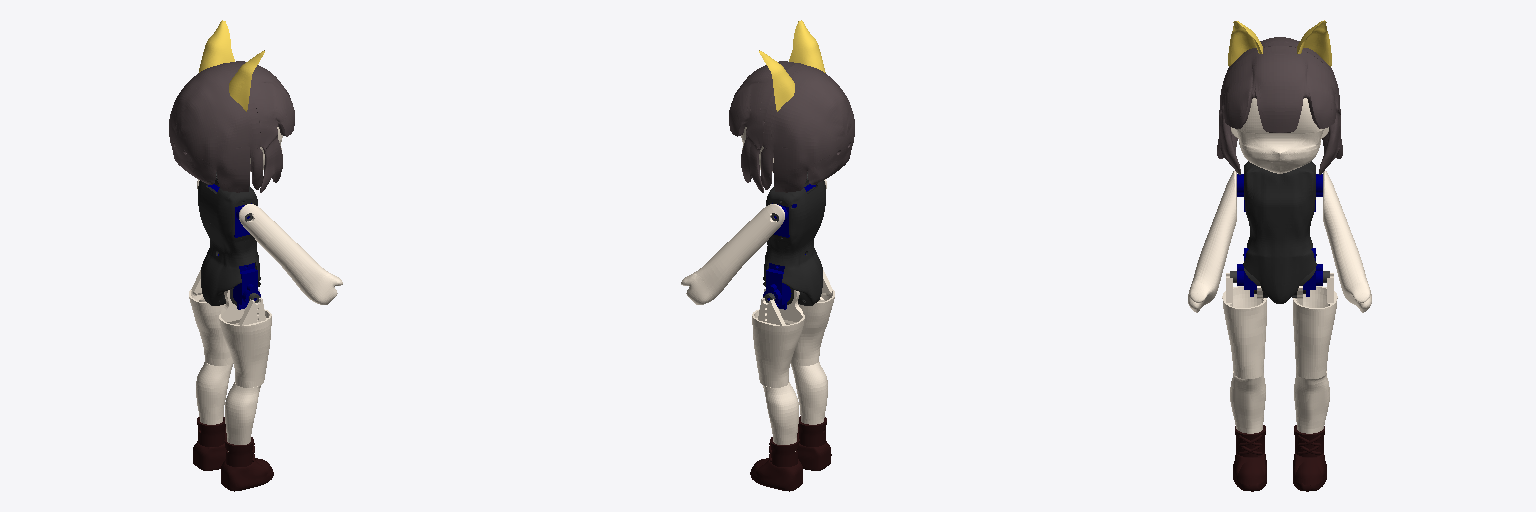
The robot description file, URDF, robot "yobicon":
<?xml version="1.0" ?>
<robot name="yobicon">
  <!-- BODY parts -->
  <link name="base_link"/>
  <link name="BODY_BASE"/>
  <link name="BODY_R">
    <visual>
      <geometry>
        <mesh filename="package://yobicon_description/meshes/BodyRight.stl" scale="0.001 0.001 0.001"/>
      </geometry>
      <material name="body_color">
        <color rgba="0.2 0.2 0.2 1"/>
      </material>
    </visual>
  </link>
  <link name="BODY_L">
    <visual>
      <geometry>
        <mesh filename="package://yobicon_description/meshes/BodyLeft.stl" scale="0.001 0.001 0.001"/>
      </geometry>
      <material name="body_color"/>
    </visual>
  </link>
  <link name="SERVO_HORN_X_1">
    <visual>
      <geometry>
        <mesh filename="package://yobicon_description/meshes/SG92R_horn_X.stl" scale="0.001 0.001 0.001"/>
      </geometry>
      <material name="sg92r_horn_color">
        <color rgba="0.3 0.3 0.3 1"/>
      </material>
    </visual>
  </link>
  <link name="SERVO_2">
    <visual>
      <origin xyz="0.0 0.0 0.0" rpy="1.5708 1.5708 0"/><!-- X+90[deg],Y+90[deg] -->
      <geometry>
        <mesh filename="package://yobicon_description/meshes/SG92R_servo.stl" scale="0.001 0.001 0.001"/>
      </geometry>
      <material name="sg92r_color">
        <color rgba="0 0 0.5 1"/>
      </material>
    </visual>
  </link>
  <link name="SERVO_3">
    <visual>
      <origin xyz="0.0 0.0 0.0" rpy="-1.5708 1.5708 0"/><!-- X-90[deg],Y+90[deg] -->
      <geometry>
        <mesh filename="package://yobicon_description/meshes/SG92R_servo.stl" scale="0.001 0.001 0.001"/>
      </geometry>
      <material name="sg92r_color"/>
    </visual>
  </link>
  <link name="SERVO_4">
    <visual>
      <origin xyz="0.0 0.0 0.0" rpy="1.5708 -1.5708 0"/><!-- X+90[deg],Y-90[deg] -->
      <geometry>
        <mesh filename="package://yobicon_description/meshes/SG92R_servo.stl" scale="0.001 0.001 0.001"/>
      </geometry>
      <material name="sg92r_color"/>
    </visual>
  </link>
  <link name="SERVO_5">
    <visual>
      <origin xyz="0.0 0.0 0.0" rpy="-1.5708 -1.5708 0"/><!-- X-90[deg],Y-90[deg] -->
      <geometry>
        <mesh filename="package://yobicon_description/meshes/SG92R_servo.stl" scale="0.001 0.001 0.001"/>
      </geometry>
      <material name="sg92r_color"/>
    </visual>
  </link>

  <joint name="BODY(DEBUG)" type="revolute">
    <parent link="base_link" />
    <child link="BODY_BASE" />
    <origin xyz="0.0 0.0 0.0" rpy="0 0 0"/>
    <limit lower="-1.5708" upper="1.5708" effort="0.24516625" velocity="10.4719755114"/>
    <axis xyz="0 1 0"/>
  </joint>

  <joint name="base_to_BODY_R" type="fixed">
    <parent link="BODY_BASE"/>
    <child link="BODY_R"/>
    <origin xyz="0 0 0.13985" rpy="0 0 0"/>
  </joint>
  <joint name="base_to_BODY_L" type="fixed">
    <parent link="BODY_BASE"/>
    <child link="BODY_L"/>
    <origin xyz="0 0 0.13985" rpy="0 0 0"/>
  </joint>
  <joint name="BODY_R_to_SERVO_HORN_X_1" type="fixed">
    <parent link="BODY_R"/>
    <child link="SERVO_HORN_X_1"/>
    <origin xyz="-0.00345 0.0 0.08185" rpy="0 0 0"/>
  </joint>
  <joint name="BODY_R_to_SERVO_2" type="fixed">
    <parent link="BODY_R"/>
    <child link="SERVO_2"/>
    <origin xyz="-0.005 -0.0296 0.0619" rpy="0 0 0"/>
  </joint>
  <joint name="BODY_L_to_SERVO_3" type="fixed">
    <parent link="BODY_L"/>
    <child link="SERVO_3"/>
    <origin xyz="-0.005 0.0296 0.0619" rpy="0 0 0"/>
  </joint>
  <joint name="BODY_R_to_SERVO_4" type="fixed">
    <parent link="BODY_R"/>
    <child link="SERVO_4"/>
    <origin xyz="0.0 -0.0296 0.0" rpy="0 0 0"/>
  </joint>
  <joint name="BODY_L_to_SERVO_5" type="fixed">
    <parent link="BODY_L"/>
    <child link="SERVO_5"/>
    <origin xyz="0.0 0.0296 0.0" rpy="0 0 0"/>
  </joint>

  <!-- Head parts -->
  <link name="SERVO_1">
    <visual>
      <origin xyz="0.0 0.0 0.0" rpy="3.1415926 0.0 0.0"/><!-- X+180[deg] -->
      <geometry>
        <mesh filename="package://yobicon_description/meshes/SG92R_servo.stl" scale="0.001 0.001 0.001"/>
      </geometry>
      <material name="sg92r_color"/>
    </visual>
  </link>
  <link name="FACE">
    <visual>
      <geometry>
        <mesh filename="package://yobicon_description/meshes/Face.stl" scale="0.001 0.001 0.001"/>
      </geometry>
      <material name="skin_color">
        <color rgba="0.9960 0.9450 0.8784 1"/>
      </material>
    </visual>
  </link>
  <link name="HAIR_FRONT">
    <visual>
      <geometry>
        <mesh filename="package://yobicon_description/meshes/HairFront.stl" scale="0.001 0.001 0.001"/>
      </geometry>
      <material name="hair_color">
        <color rgba="0.3725 0.3255 0.3333 1"/>
      </material>
    </visual>
  </link>
  <link name="HAIR_BACK">
    <visual>
      <geometry>
        <mesh filename="package://yobicon_description/meshes/HairBack.stl" scale="0.001 0.001 0.001"/>
      </geometry>
      <material name="hair_color"/>
    </visual>
  </link>
  <link name="KEMOMIMI_R">
    <visual>
      <geometry>
        <mesh filename="package://yobicon_description/meshes/KemonomimiRight.stl" scale="0.001 0.001 0.001"/>
      </geometry>
      <material name="mimi_color">
        <color rgba="0.9843 0.8588 0.3843 1"/>
      </material>
    </visual>
  </link>
  <link name="KEMOMIMI_L">
    <visual>
      <geometry>
        <mesh filename="package://yobicon_description/meshes/KemonomimiLeft.stl" scale="0.001 0.001 0.001"/>
      </geometry>
      <material name="mimi_color"/>
    </visual>
  </link>

  <joint name="Joint_Servo1" type="revolute">
    <parent link="SERVO_HORN_X_1" />
    <child link="SERVO_1" />
    <origin xyz="0.0 0.0 0.0" rpy="0 0 0"/>
    <limit lower="-1.5708" upper="1.5708" effort="0.24516625" velocity="10.4719755114"/><!-- min:-90[deg],max:+90[deg] -->
    <axis xyz="0 0 1"/>
  </joint>
  <joint name="SERVO_1_TO_FACE" type="fixed">
    <parent link="SERVO_1" />
    <child link="FACE" />
    <origin xyz="0.0 0.0 0.0" rpy="0 0 0"/>
  </joint>
  <joint name="FACE_TO_HAIR_F" type="fixed">
    <parent link="FACE" />
    <child link="HAIR_FRONT" />
    <origin xyz="0.0 0.0 0.0" rpy="0 0 0"/>
  </joint>
  <joint name="FACE_TO_HAIR_B" type="fixed">
    <parent link="FACE" />
    <child link="HAIR_BACK" />
    <origin xyz="0.0 0.0 0.0" rpy="0 0 0"/>
  </joint>
  <joint name="HAIR_TO_KEMOMIMI_R" type="fixed">
    <parent link="HAIR_BACK" />
    <child link="KEMOMIMI_R" />
    <origin xyz="0.0 0.0 0.0" rpy="0 0 0"/>
  </joint>
  <joint name="HAIR_TO_KEMOMIMI_L" type="fixed">
    <parent link="HAIR_BACK" />
    <child link="KEMOMIMI_L" />
    <origin xyz="0.0 0.0 0.0" rpy="0 0 0"/>
  </joint>

  <!-- Arm parts -->
  <link name="SERVO_HORN_2">
    <visual>
      <origin xyz="0.0 0.0 0.0" rpy="1.5708 0.7854 0"/><!-- X+90[deg],Y+45[deg] -->
      <geometry>
        <mesh filename="package://yobicon_description/meshes/SG92R_horn_i.stl" scale="0.001 0.001 0.001"/>
      </geometry>
      <material name="sg92r_horn_color"/>
    </visual>
  </link>
  <link name="ARM_R">
    <visual>
      <origin xyz="0.0 0.0 0.0" rpy="0.0 -0.7854 0"/><!-- Y-45[deg] -->
      <geometry>
        <mesh filename="package://yobicon_description/meshes/ArmRight.stl" scale="0.001 0.001 0.001"/>
      </geometry>
      <material name="skin_color"/>
    </visual>
  </link>
  <link name="SERVO_HORN_3">
    <visual>
      <origin xyz="0.0 0.0 0.0" rpy="-1.5708 0.7854 0"/><!-- X-90[deg],Y+45[deg] -->
      <geometry>
        <mesh filename="package://yobicon_description/meshes/SG92R_horn_i.stl" scale="0.001 0.001 0.001"/>
      </geometry>
      <material name="sg92r_horn_color"/>
    </visual>
  </link>
  <link name="ARM_L">
    <visual>
      <origin xyz="0.0 0.0 0.0" rpy="0.0 -0.7854 0"/><!-- Y-45[deg] -->
      <geometry>
        <mesh filename="package://yobicon_description/meshes/ArmLeft.stl" scale="0.001 0.001 0.001"/>
      </geometry>
      <material name="skin_color"/>
    </visual>
  </link>

  <joint name="Joint_Servo2" type="revolute">
    <parent link="SERVO_2" />
    <child link="SERVO_HORN_2" />
    <origin xyz="0.0 0.0 0.0" rpy="0 0 0"/>
    <limit lower="-1.5708" upper="1.5708" effort="0.24516625" velocity="10.4719755114"/><!-- min:-90[deg],max:+90[deg] -->
    <axis xyz="0 1 0"/>
  </joint>
  <joint name="HORN_TO_ARM_R" type="fixed">
    <parent link="SERVO_HORN_2" />
    <child link="ARM_R" />
    <origin xyz="0.0 0.0 0.0" rpy="0 0 0"/>
  </joint>
  <joint name="Joint_Servo3" type="revolute">
    <parent link="SERVO_3" />
    <child link="SERVO_HORN_3" />
    <origin xyz="0.0 0.0 0.0" rpy="0 0 0"/>
    <limit lower="-1.5708" upper="1.5708" effort="0.24516625" velocity="10.4719755114"/><!-- min:-90[deg],max:+90[deg] -->
    <axis xyz="0 1 0"/>
  </joint>
  <joint name="HORN_TO_ARM_L" type="fixed">
    <parent link="SERVO_HORN_3" />
    <child link="ARM_L" />
    <origin xyz="0.0 0.0 0.0" rpy="0 0 0"/>
  </joint>

  <!-- Leg parts -->
  <link name="SERVO_HORN_4">
    <visual>
      <origin xyz="0.0 0.0 0.0" rpy="1.5708 1.5708 0"/><!-- X+90[deg],Y+90[deg] -->
      <geometry>
        <mesh filename="package://yobicon_description/meshes/SG92R_horn_i.stl" scale="0.001 0.001 0.001"/>
      </geometry>
      <material name="sg92r_horn_color"/>
    </visual>
  </link>
  <link name="LEG_R">
    <visual>
      <geometry>
        <mesh filename="package://yobicon_description/meshes/LegRight.stl" scale="0.001 0.001 0.001"/>
      </geometry>
      <material name="skin_color"/>
    </visual>
  </link>
  <link name="SERVO_HORN_5">
    <visual>
      <origin xyz="0.0 0.0 0.0" rpy="-1.5708 1.5708 0"/><!-- X-90[deg],Y+90[deg] -->
      <geometry>
        <mesh filename="package://yobicon_description/meshes/SG92R_horn_i.stl" scale="0.001 0.001 0.001"/>
      </geometry>
      <material name="sg92r_horn_color"/>
    </visual>
  </link>
  <link name="LEG_L">
    <visual>
      <geometry>
        <mesh filename="package://yobicon_description/meshes/LegLeft.stl" scale="0.001 0.001 0.001"/>
      </geometry>
      <material name="skin_color"/>
    </visual>
  </link>
  <link name="BOOTS_R">
    <visual>
      <geometry>
        <mesh filename="package://yobicon_description/meshes/BootsRight.stl" scale="0.001 0.001 0.001"/>
      </geometry>
      <material name="boots_color">
        <color rgba="0.2 0.1 0.1 1"/>
      </material>
    </visual>
  </link>
  <link name="BOOTS_L">
    <visual>
      <geometry>
        <mesh filename="package://yobicon_description/meshes/BootsLeft.stl" scale="0.001 0.001 0.001"/>
      </geometry>
      <material name="boots_color"/>
    </visual>
  </link>

  <joint name="Joint_Servo4" type="revolute">
    <parent link="SERVO_4"/>
    <child link="SERVO_HORN_4"/>
    <origin xyz="0.0 0.0 0.0" rpy="0 0 0"/>
    <limit lower="-1.5708" upper="1.5708" effort="0.24516625" velocity="10.4719755114"/><!-- min:-90[deg],max:+90[deg] -->
    <axis xyz="0 1 0"/>
  </joint>
  <joint name="HORN_TO_LEG_R" type="fixed">
    <parent link="SERVO_HORN_4"/>
    <child link="LEG_R"/>
    <origin xyz="0.0 0.0 0.0" rpy="0 0 0"/>
  </joint>
  <joint name="Joint_Servo5" type="revolute">
    <parent link="SERVO_5"/>
    <child link="SERVO_HORN_5"/>
    <origin xyz="0.0 0.0 0.0" rpy="0 0 0"/>
    <limit lower="-1.5708" upper="1.5708" effort="0.24516625" velocity="10.4719755114"/><!-- min:-90[deg],max:+90[deg] -->
    <axis xyz="0 1 0"/>
  </joint>
  <joint name="HORN_TO_LEG_L" type="fixed">
    <parent link="SERVO_HORN_5"/>
    <child link="LEG_L"/>
    <origin xyz="0.0 0.0 0.0" rpy="0 0 0"/>
  </joint>
  <joint name="LEG_TO_BOOTS_R" type="fixed">
    <parent link="LEG_R"/>
    <child link="BOOTS_R"/>
    <origin xyz="0.0 0.0 0.0" rpy="0 0 0"/>
  </joint>
  <joint name="LEG_TO_BOOTS_L" type="fixed">
    <parent link="LEG_L"/>
    <child link="BOOTS_L"/>
    <origin xyz="0.0 0.0 0.0" rpy="0 0 0"/>
  </joint>

</robot>

--- Facts derived from the render (not from the file) ---
3 views of the same robot in one strip: view 1: azimuth 30°, elevation 25°; view 2: azimuth 150°, elevation 25°; view 3: azimuth 270°, elevation 25° (orthographic).
Robot: yobicon — 25 links, 24 joints (6 revolute, 18 fixed); root link base_link; default pose: all joints at 0.
Visible links, largest first — view 1: HAIR_BACK, LEG_R, BODY_R, LEG_L, ARM_R, HAIR_FRONT, BOOTS_R, BOOTS_L, KEMOMIMI_L, BODY_L, KEMOMIMI_R, SERVO_4; view 2: HAIR_BACK, LEG_L, BODY_L, LEG_R, ARM_L, HAIR_FRONT, BOOTS_L, BOOTS_R, BODY_R, KEMOMIMI_R, KEMOMIMI_L, SERVO_5; view 3: HAIR_FRONT, LEG_R, LEG_L, BODY_R, BODY_L, FACE, ARM_R, ARM_L, BOOTS_R, BOOTS_L, KEMOMIMI_L, KEMOMIMI_R (+1 smaller).
Boxes of the visible links, x1,y1,x2,y2 form: HAIR_BACK: (169, 63, 262, 192); LEG_R: (219, 289, 271, 451); BODY_R: (206, 172, 260, 305); LEG_L: (189, 270, 233, 424); ARM_R: (239, 204, 342, 304); HAIR_FRONT: (226, 61, 294, 192); BOOTS_R: (221, 437, 273, 491); BOOTS_L: (193, 417, 226, 470); KEMOMIMI_L: (199, 20, 234, 72); BODY_L: (198, 180, 218, 302); KEMOMIMI_R: (229, 50, 264, 111); SERVO_4: (233, 263, 260, 309); HAIR_BACK: (761, 63, 854, 192); LEG_L: (752, 289, 804, 451); BODY_L: (763, 182, 817, 305); LEG_R: (790, 270, 834, 424); ARM_L: (681, 204, 784, 304); HAIR_FRONT: (729, 61, 797, 192); BOOTS_L: (750, 437, 802, 491); BOOTS_R: (797, 416, 831, 470); BODY_R: (805, 172, 825, 302); KEMOMIMI_R: (789, 20, 825, 72); KEMOMIMI_L: (759, 50, 794, 111); SERVO_5: (763, 263, 791, 309); HAIR_FRONT: (1217, 46, 1342, 174); LEG_R: (1222, 273, 1266, 433); LEG_L: (1293, 273, 1337, 433); BODY_R: (1243, 161, 1279, 303); BODY_L: (1280, 161, 1316, 303); FACE: (1231, 98, 1328, 173); ARM_R: (1188, 171, 1236, 312); ARM_L: (1323, 171, 1371, 312); BOOTS_R: (1233, 425, 1266, 491); BOOTS_L: (1293, 425, 1326, 491); KEMOMIMI_L: (1297, 20, 1331, 66); KEMOMIMI_R: (1228, 21, 1262, 66).
Bounding box of the posed robot: 0.0976 × 0.1153 × 0.3206 m (x, y, z).
23 mesh visuals loaded from 16 distinct referenced files (16 binary STL).